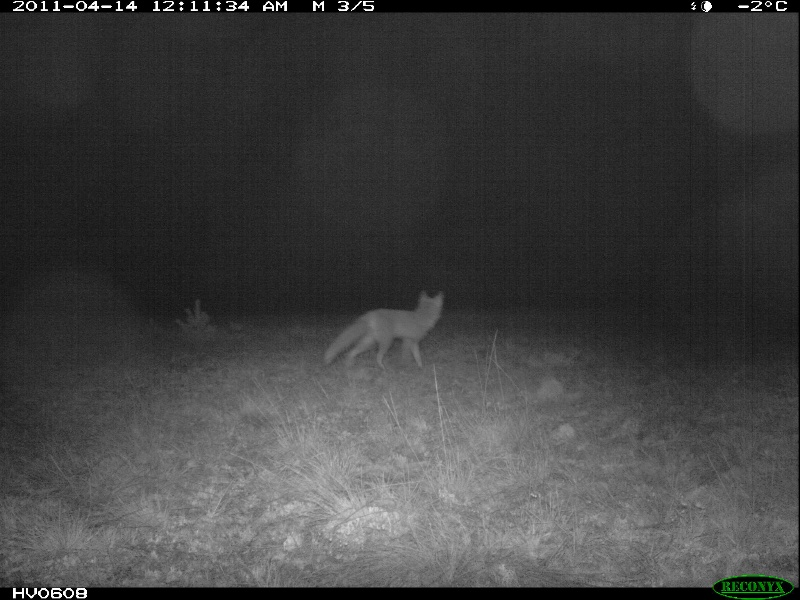fox: (318, 288, 451, 373)
